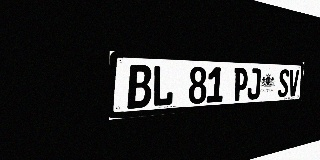1: (206, 67, 224, 103)
8: (188, 66, 207, 104)
B: (127, 65, 152, 109)
J: (247, 68, 261, 100)
L: (152, 65, 174, 107)
P: (233, 68, 248, 101)
S: (278, 69, 290, 98)
V: (288, 69, 299, 97)
